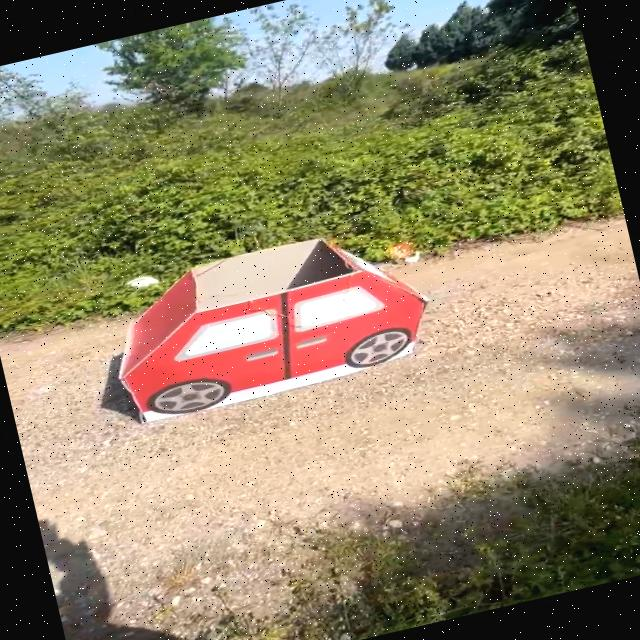red_car: (66, 204, 462, 441)
